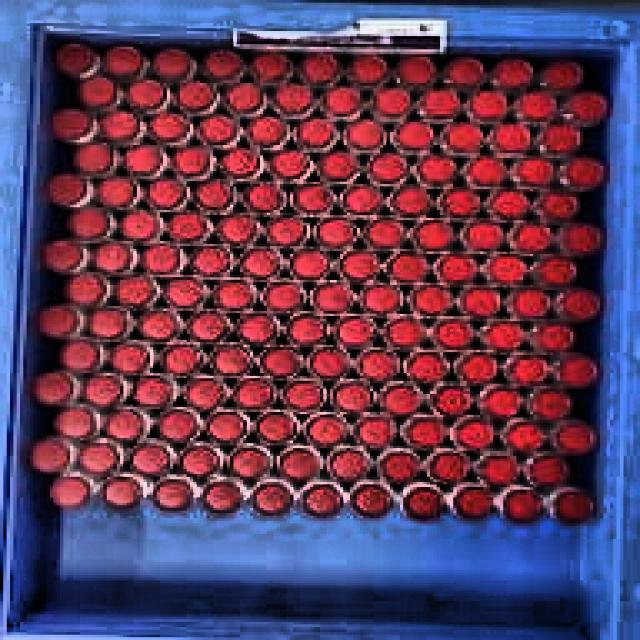vial: (551, 489, 595, 525), (30, 372, 76, 405), (26, 438, 69, 473), (251, 483, 295, 517), (562, 92, 607, 125), (452, 420, 497, 452), (351, 484, 393, 518), (273, 82, 316, 115), (300, 51, 344, 83), (78, 441, 119, 475), (202, 482, 244, 515), (146, 176, 188, 209), (384, 316, 427, 348), (559, 157, 603, 188), (159, 409, 199, 443), (302, 484, 343, 517), (403, 487, 444, 520), (430, 451, 471, 484), (332, 381, 373, 414), (480, 386, 521, 419), (553, 422, 595, 454), (504, 422, 546, 454), (206, 411, 248, 443), (558, 224, 600, 256), (233, 379, 276, 410), (223, 82, 266, 113), (283, 449, 320, 485), (330, 447, 368, 482), (105, 410, 144, 444), (57, 43, 96, 77), (453, 486, 493, 519), (440, 185, 480, 218), (542, 59, 582, 92), (48, 475, 89, 507), (46, 174, 87, 206), (488, 189, 529, 221), (492, 57, 533, 89), (402, 419, 444, 450), (235, 312, 277, 343), (149, 111, 191, 142), (152, 47, 194, 78), (519, 87, 557, 121), (292, 182, 335, 212), (175, 81, 218, 111), (64, 274, 103, 307), (503, 490, 543, 522), (381, 451, 421, 483), (534, 257, 578, 286), (60, 340, 101, 371), (160, 345, 201, 376), (431, 385, 472, 416), (125, 144, 166, 175), (246, 115, 287, 146), (212, 280, 254, 310), (313, 282, 355, 312), (444, 122, 486, 152), (559, 289, 598, 321), (318, 150, 357, 182), (129, 378, 172, 407), (68, 209, 111, 238), (83, 375, 123, 406), (217, 213, 257, 244), (194, 179, 234, 210), (344, 118, 384, 149), (347, 54, 387, 85), (406, 354, 447, 384), (189, 310, 230, 340), (336, 316, 377, 346), (482, 321, 523, 351), (413, 219, 454, 249), (242, 182, 283, 212), (468, 89, 509, 119), (512, 223, 549, 256), (154, 479, 192, 511), (462, 285, 500, 317), (366, 219, 404, 251), (96, 176, 134, 208), (42, 305, 81, 336), (433, 319, 472, 350), (306, 415, 346, 445), (261, 281, 301, 311), (527, 457, 568, 486), (530, 389, 571, 418), (361, 284, 402, 313), (220, 146, 261, 175), (367, 153, 408, 182), (537, 192, 578, 221), (116, 211, 160, 238), (230, 449, 268, 480), (508, 354, 546, 385), (487, 255, 525, 286), (201, 115, 239, 146), (138, 311, 180, 339), (412, 286, 454, 314), (102, 47, 144, 75), (418, 90, 460, 118), (354, 417, 393, 447), (184, 380, 223, 410), (382, 386, 421, 416), (53, 109, 92, 139), (101, 110, 140, 140), (205, 50, 244, 80), (53, 409, 93, 438), (87, 309, 127, 338), (387, 253, 427, 282), (74, 144, 114, 173), (419, 153, 459, 182), (132, 444, 168, 476), (108, 344, 149, 372), (341, 186, 382, 214), (468, 158, 509, 186), (340, 249, 377, 280), (173, 144, 210, 175), (287, 250, 331, 276), (467, 221, 505, 251), (265, 217, 307, 244), (180, 447, 219, 476), (261, 347, 300, 376), (191, 245, 230, 274), (436, 254, 475, 283), (540, 124, 579, 153), (241, 249, 281, 277), (316, 219, 356, 247), (394, 122, 434, 150), (372, 87, 408, 118), (77, 77, 114, 107), (103, 477, 141, 506), (251, 52, 289, 81), (459, 355, 498, 383), (115, 279, 154, 307), (533, 324, 572, 352), (269, 149, 308, 177), (391, 186, 430, 214), (395, 56, 434, 84), (493, 124, 532, 152), (285, 381, 321, 411), (44, 241, 80, 271), (479, 456, 516, 485), (289, 316, 330, 342), (359, 351, 397, 379), (165, 278, 203, 306), (141, 245, 179, 273), (295, 118, 333, 146), (323, 86, 361, 114), (309, 349, 348, 376), (259, 415, 296, 443), (213, 349, 250, 377), (511, 288, 548, 316), (93, 244, 130, 271), (169, 211, 203, 240), (517, 158, 552, 186), (446, 57, 482, 84), (129, 79, 163, 107), (558, 358, 593, 384)
